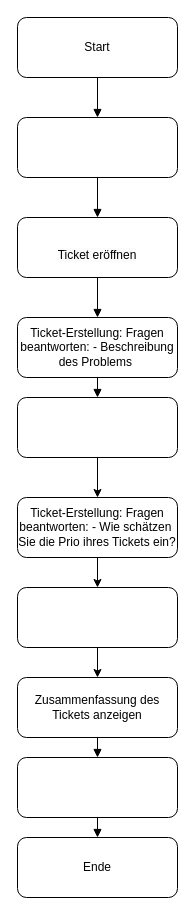
Some shapes in this 195 by 915 pixel diagram are drawn without their labels. Here are the shapes that lost their labels. From the top down, the box of each, then its label:
(16, 116, 178, 178): Begrüßung durch Chatbot Kategorie wählen
(16, 396, 178, 458): Ticket-Erstellung: Fragen beantworten: - Seit wann besteht das Problem?
(16, 756, 178, 818): Verabschiedung: "Es wird sich jemand mit einer Lösung bei Ihnen melden."
